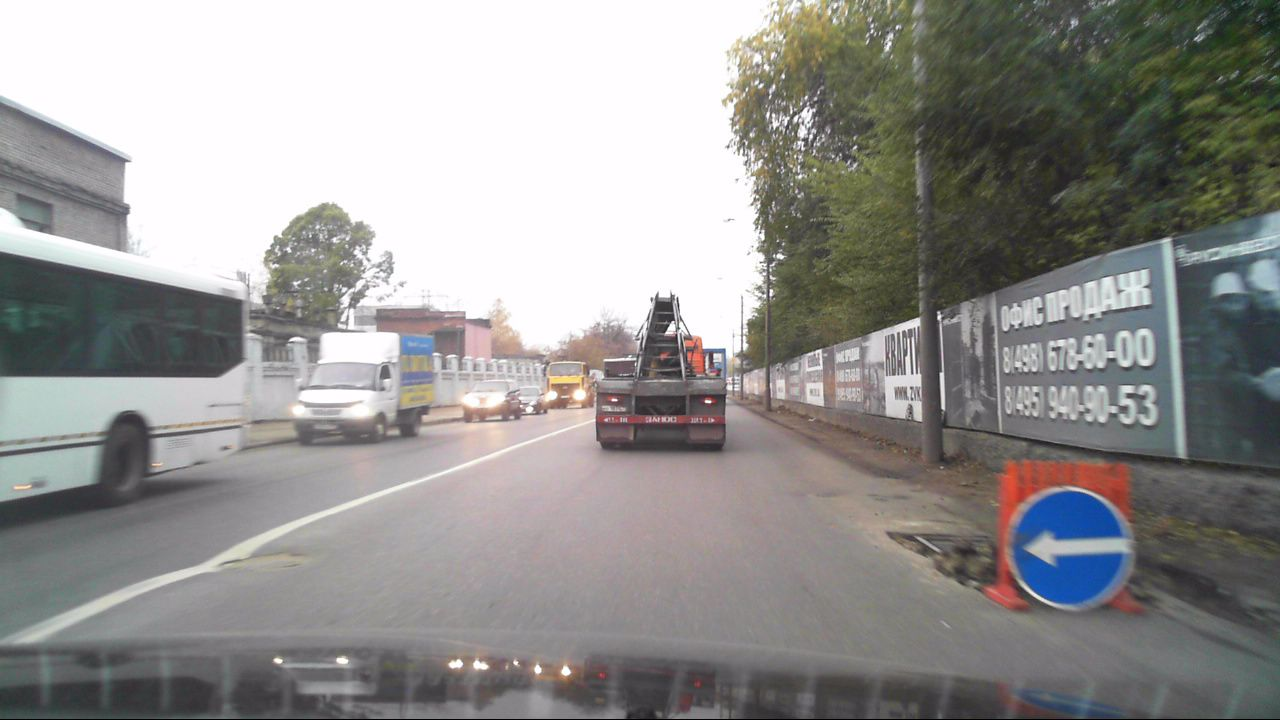Turn Left: (1007, 486, 1130, 610)
